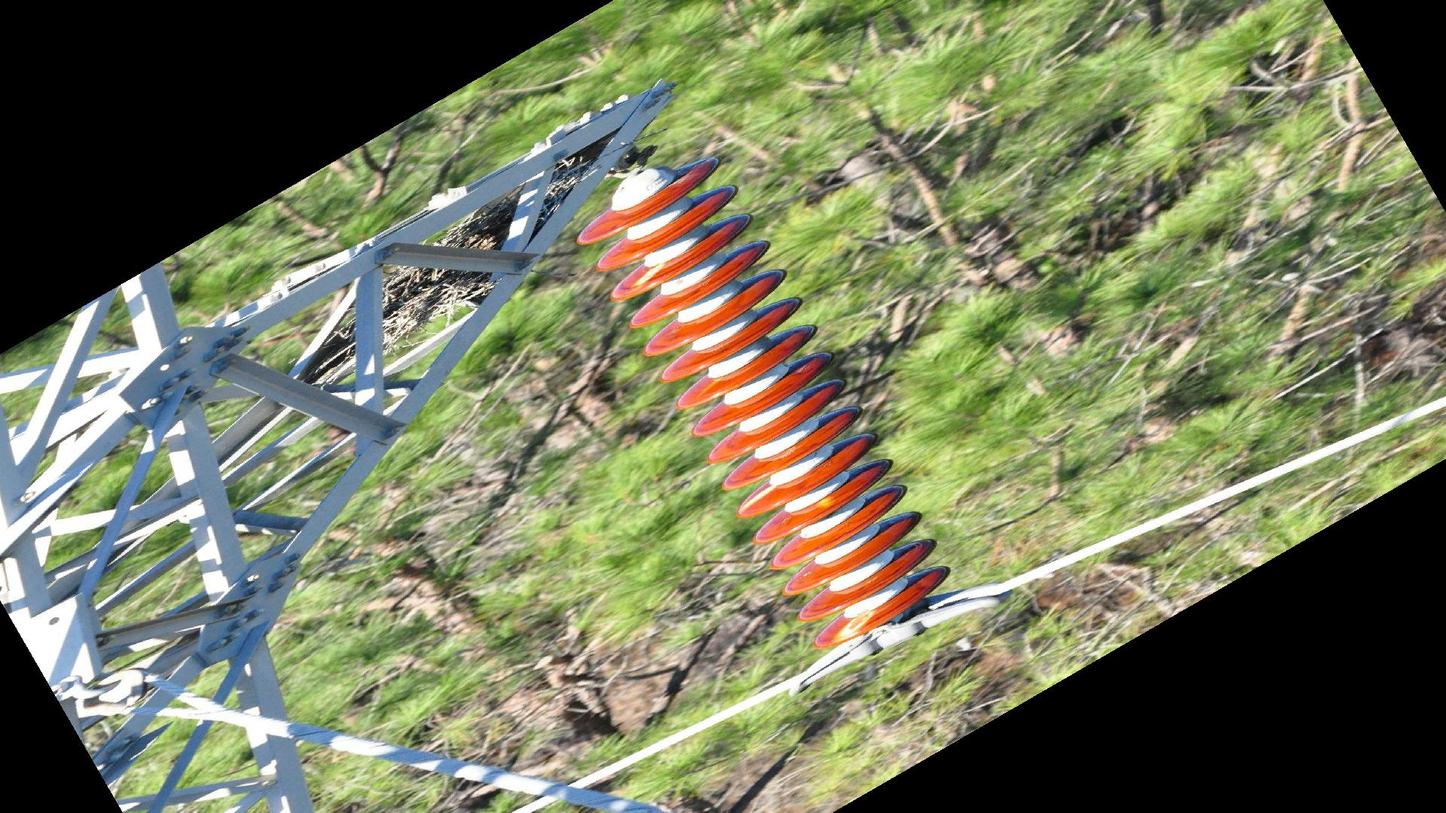insulator: (573, 150, 957, 656)
insulator_flashover: (733, 481, 778, 516), (830, 610, 876, 644), (633, 262, 664, 291)
